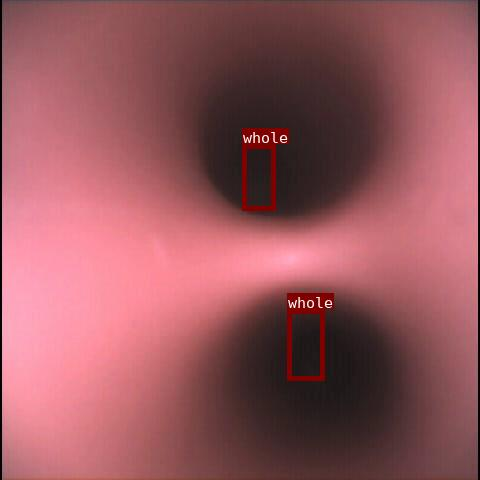whole: (287, 309, 324, 380), (242, 144, 275, 210)
